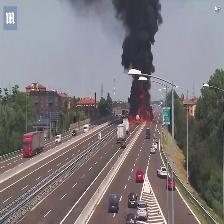fire: (128, 88, 155, 125)
